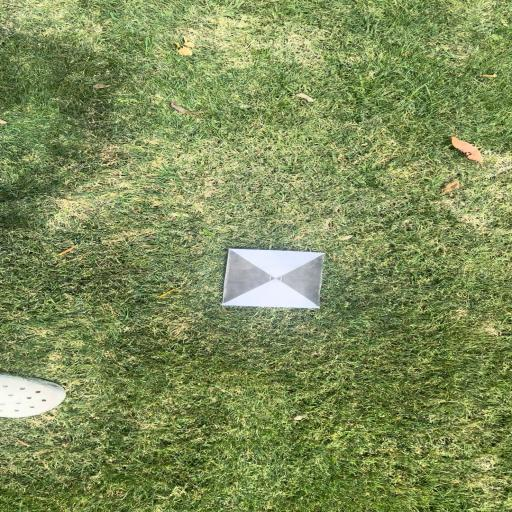target: (224, 249, 325, 307)
